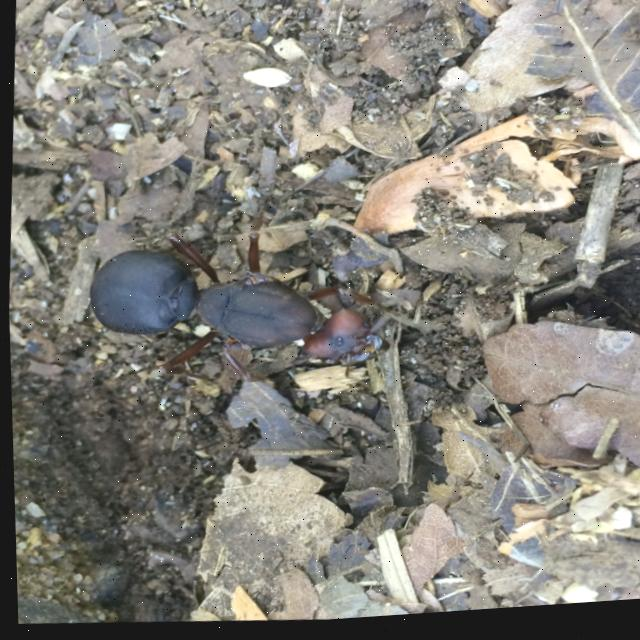Alive-Female-Dealate: (79, 184, 444, 413)
